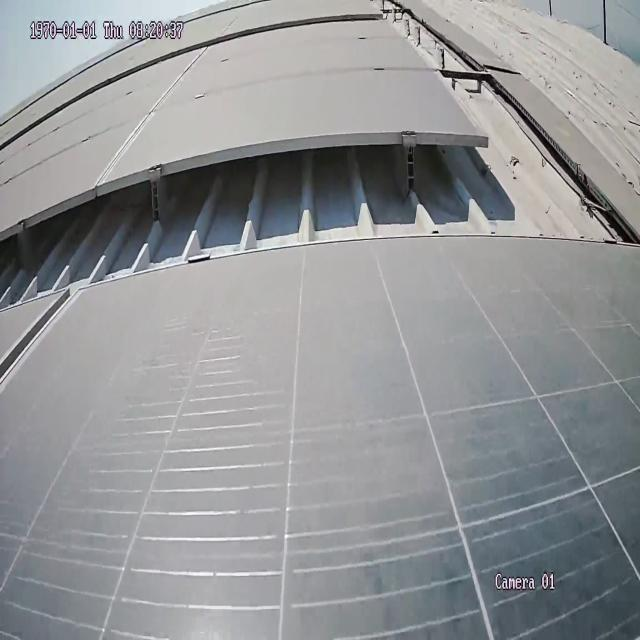interior panel: (84, 44, 213, 192), (0, 284, 85, 392)
outher panel: (2, 0, 640, 306)
